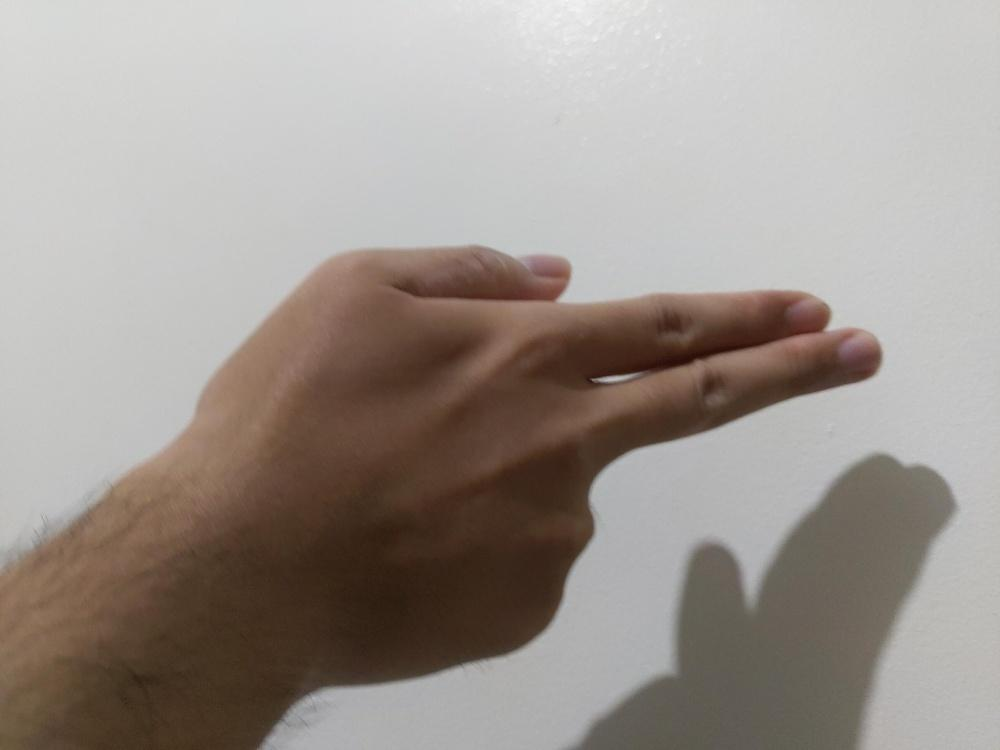h: (195, 243, 884, 682)
